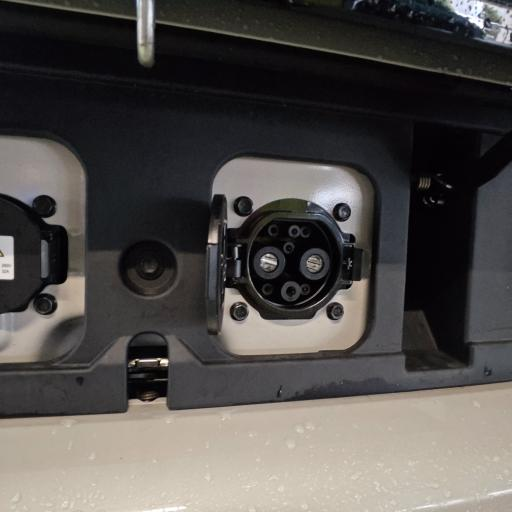DC_charging_port: (240, 208, 348, 316)
DC_hole: (252, 245, 286, 281), (300, 246, 330, 280)
PE: (281, 281, 303, 302)
